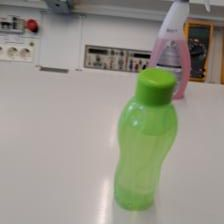bottle: (110, 64, 178, 210)
